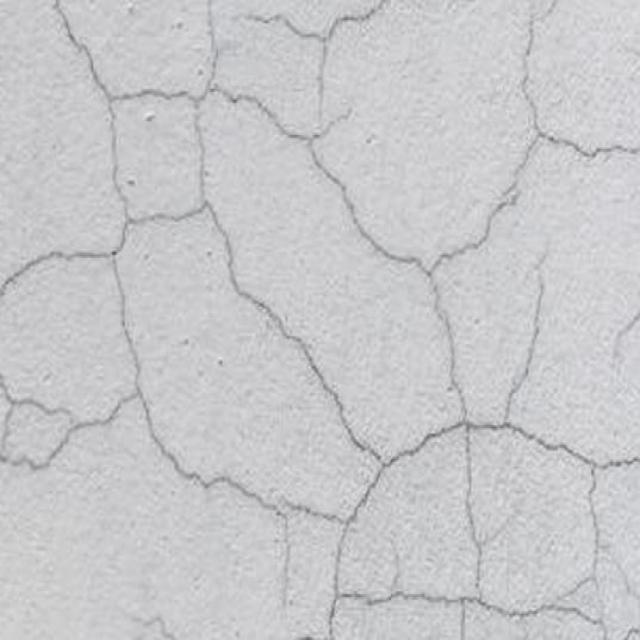wall_crack: (3, 3, 640, 640)
